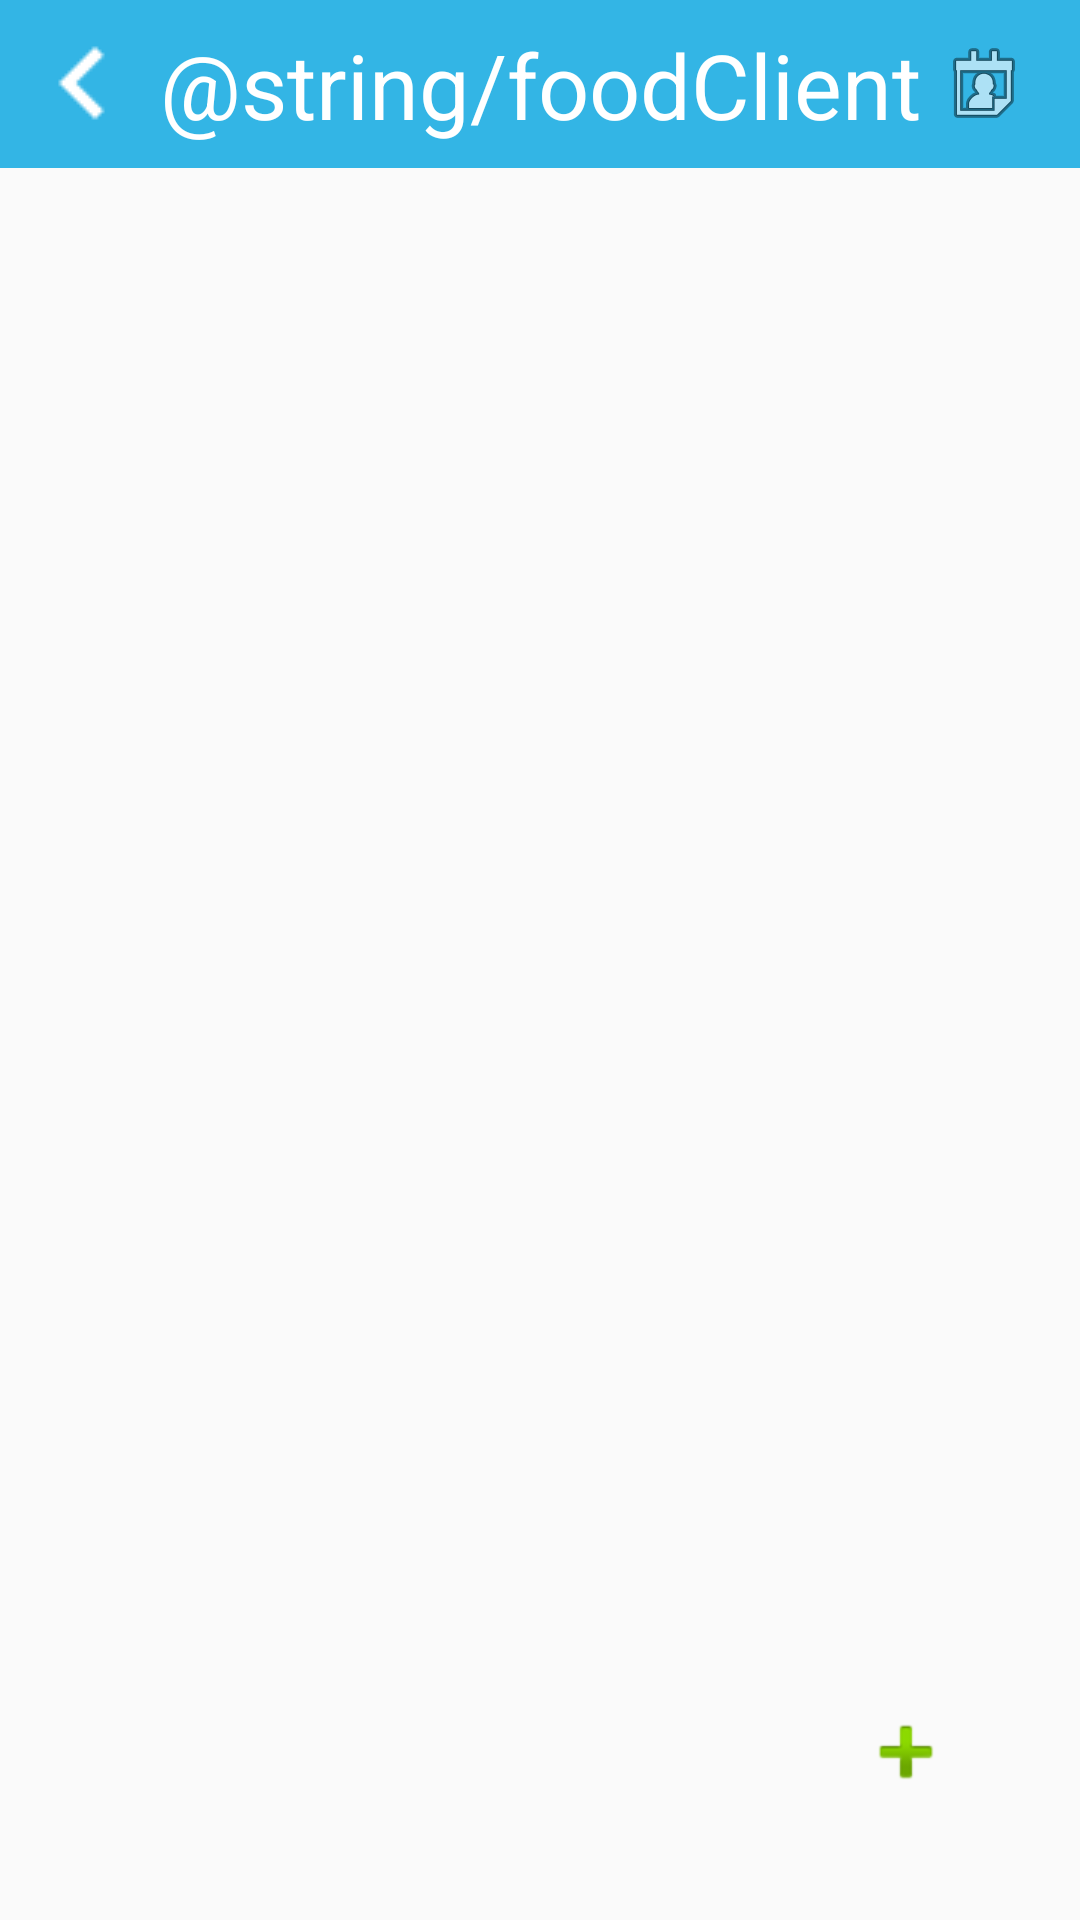

Named icons in this screenshot (1080 × 1920) and their bounding boxes, [x1, y1, x2, y2]:
add: [879, 1725, 933, 1779]
Back to ClientForTrainer: [58, 46, 105, 120]
